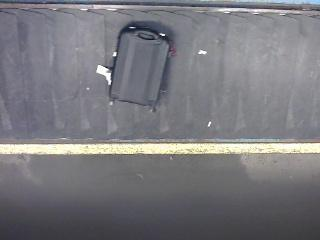Suitcase: (109, 22, 170, 112)
